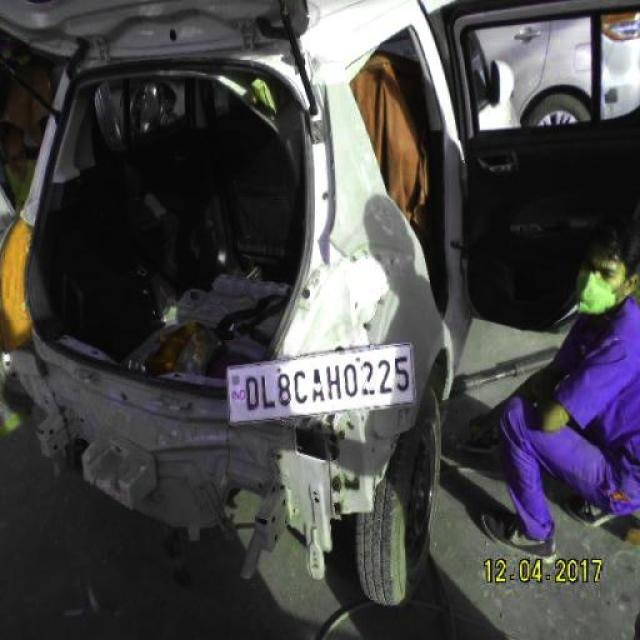car damage: (8, 245, 415, 577)
